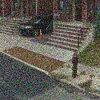stairs: (49, 21, 89, 53)
